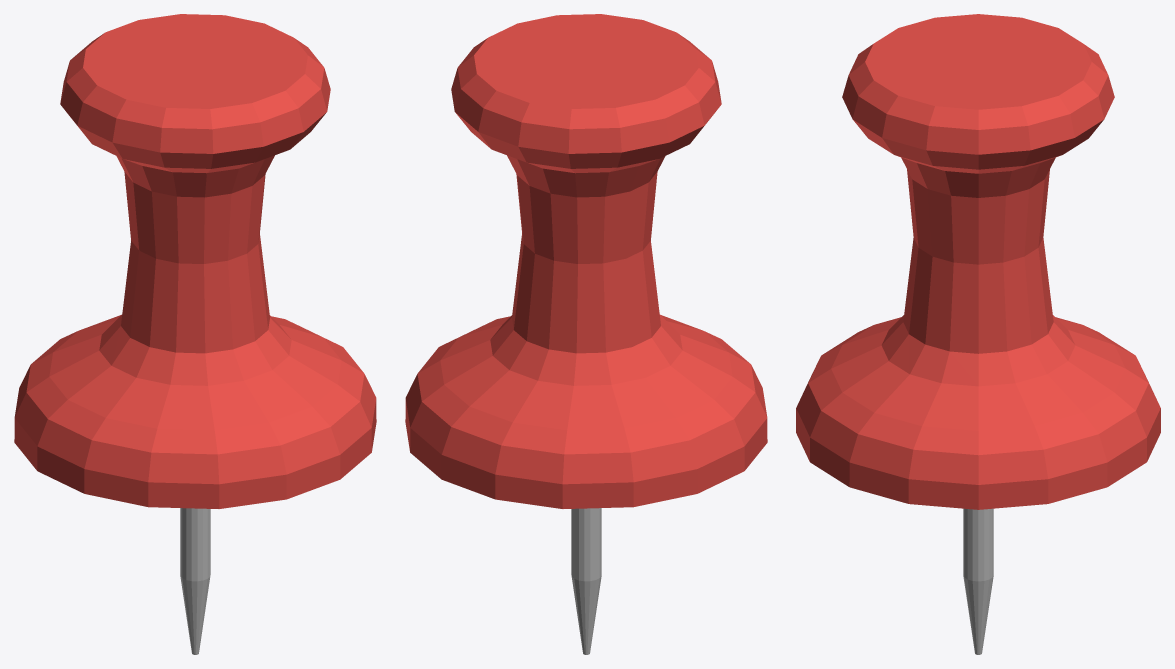
Rendered from model_pin.fbx.
3 views of the same model, side by side, from view 1: azimuth 30°, elevation 25°; view 2: azimuth 150°, elevation 25°; view 3: azimuth 270°, elevation 25° (orthographic).
Visible parts, largest first — view 1: Pin; view 2: Pin; view 3: Pin.
Boxes of the visible parts, left/top/right/bottom form: Pin: left=14, top=14, right=376, bottom=654; Pin: left=405, top=14, right=767, bottom=654; Pin: left=796, top=14, right=1160, bottom=654.
Bounding box in the file's own units: 262 × 469 × 262.
